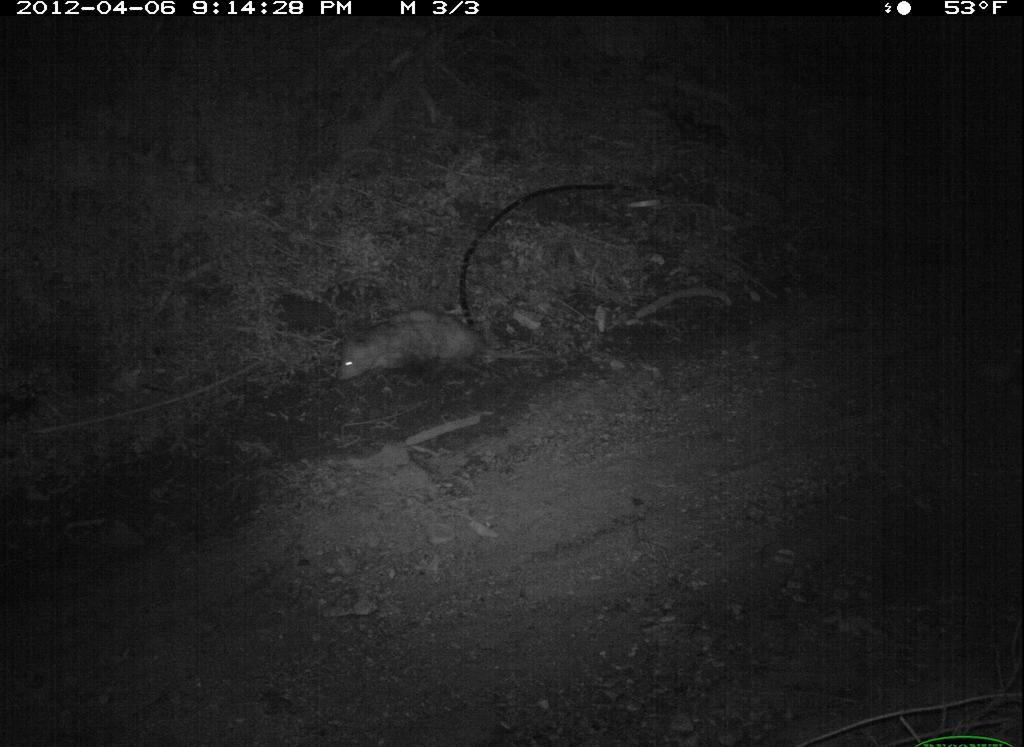opossum: (326, 300, 566, 392)
